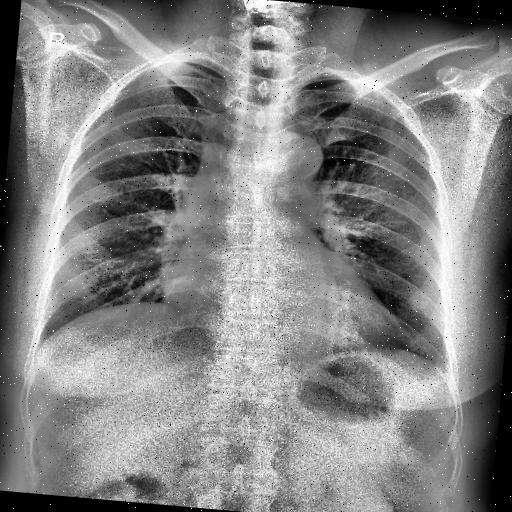0- Aortic enlargement: (250, 124, 331, 186), (266, 128, 324, 196), (256, 128, 324, 180)
3- Cardiomegaly: (156, 266, 410, 358), (157, 255, 396, 348), (158, 264, 398, 354)
